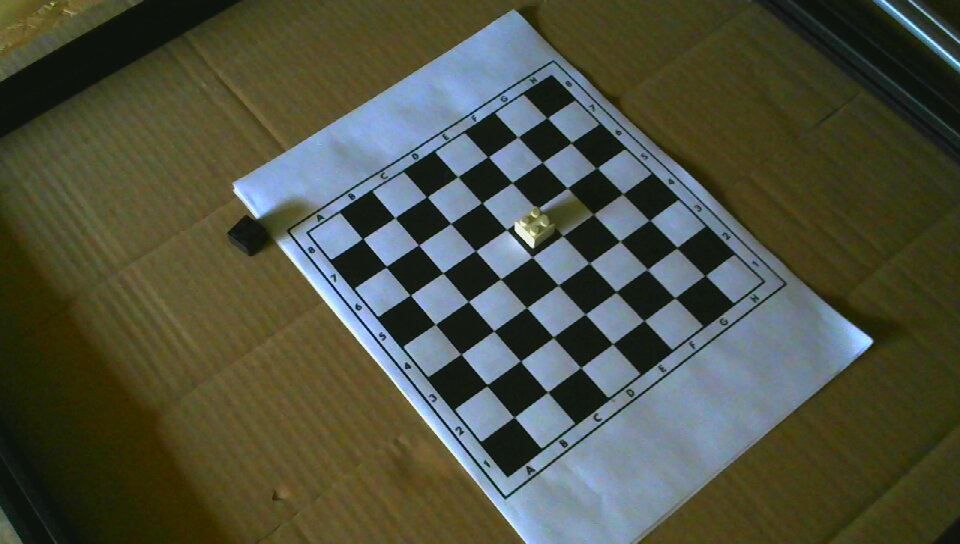bp: (227, 214, 269, 258)
wp: (513, 206, 557, 250)
